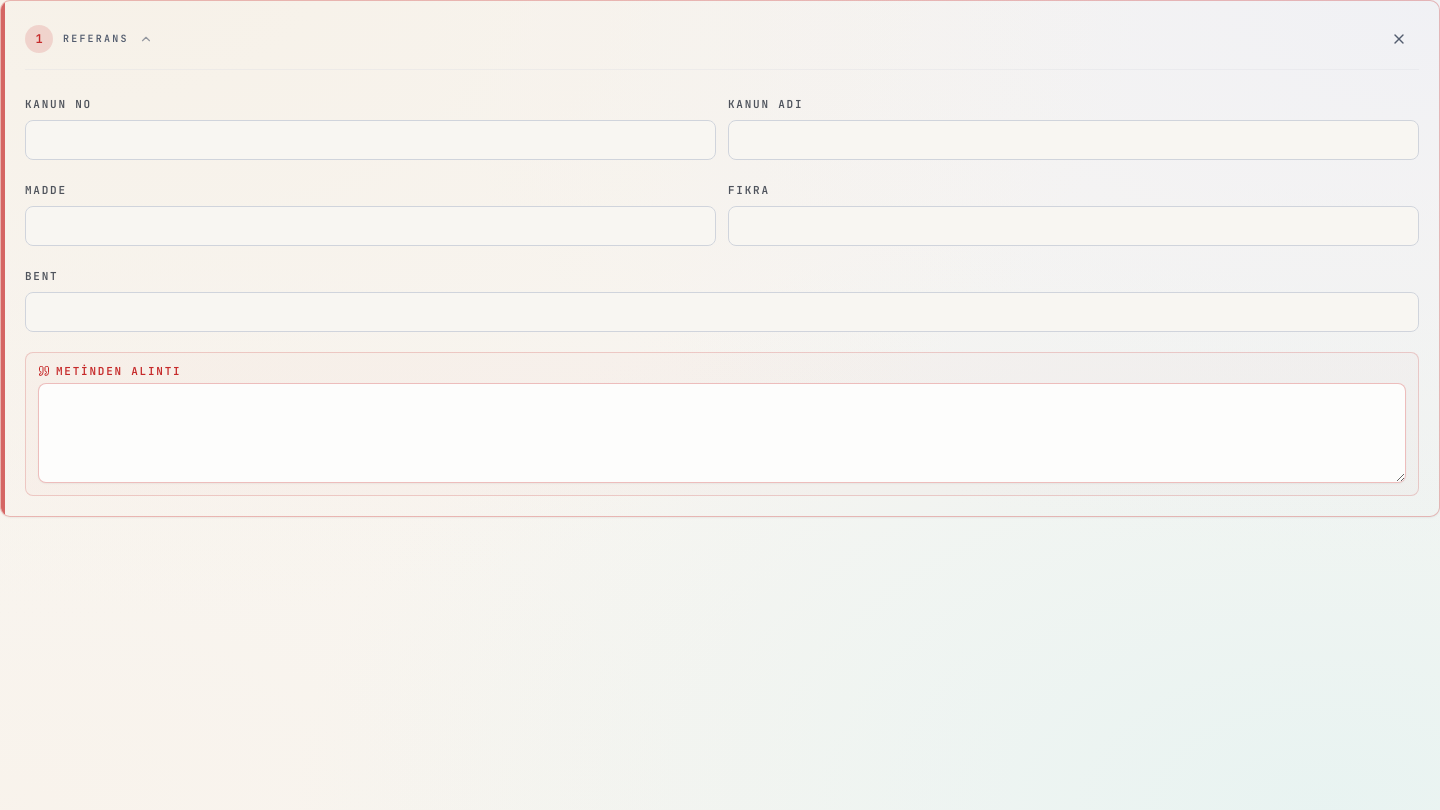
Test: ReferenceCard › ReferenceCard blur auto-splitting and normalization › shows a live split warning while typing parseable complex madde
Type "17/5-a" into the field labelled "Madde" at (370, 226), box [25,206,716,246]
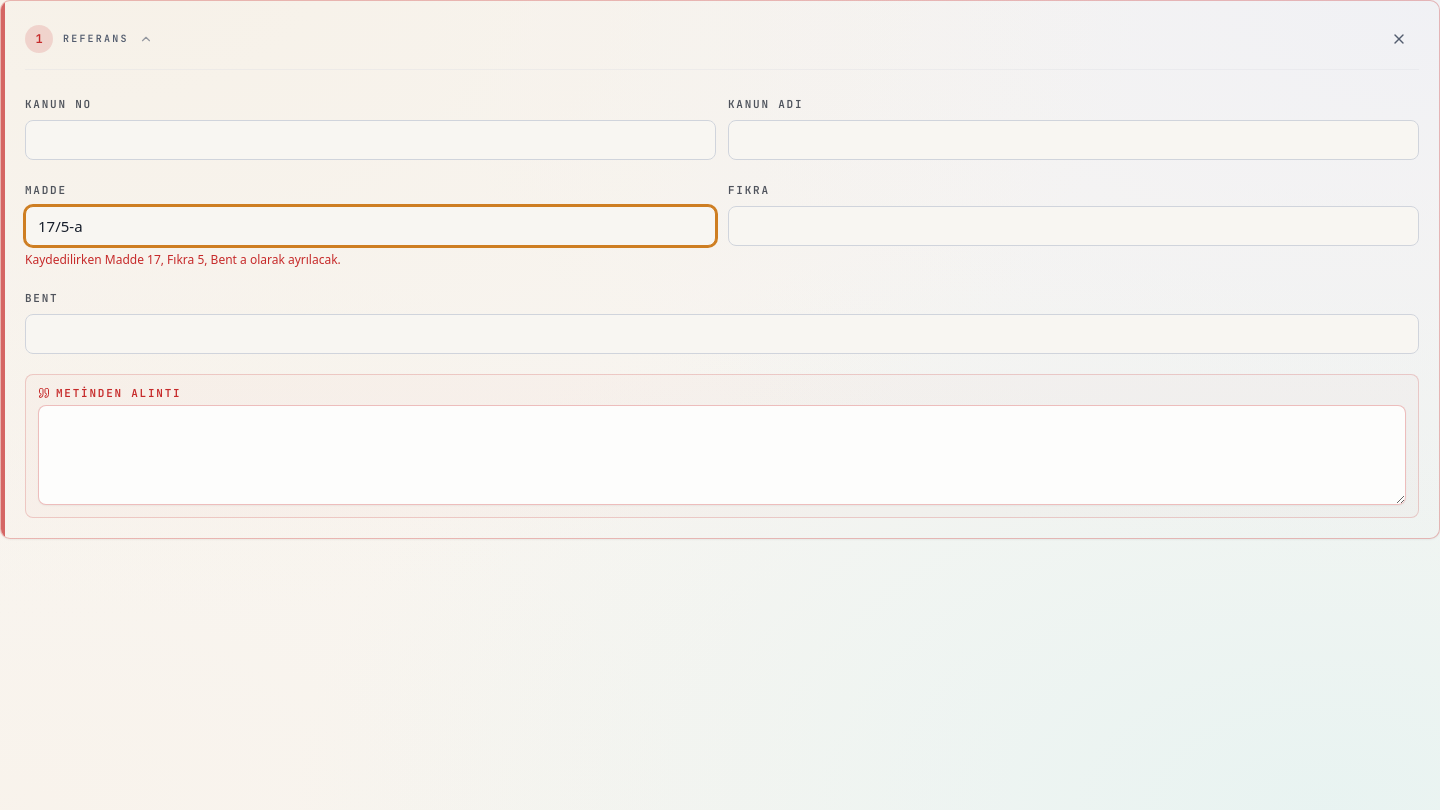
Expected: the text "Kaydedilirken Madde 17, Fıkra 5, Bent a olarak ayrılacak." is shown, [25,251,341,268]
